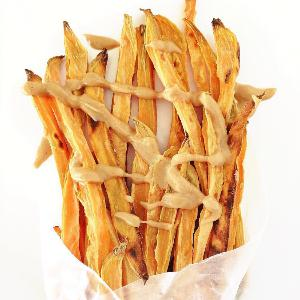fries_350cal: (21, 9, 267, 261)
